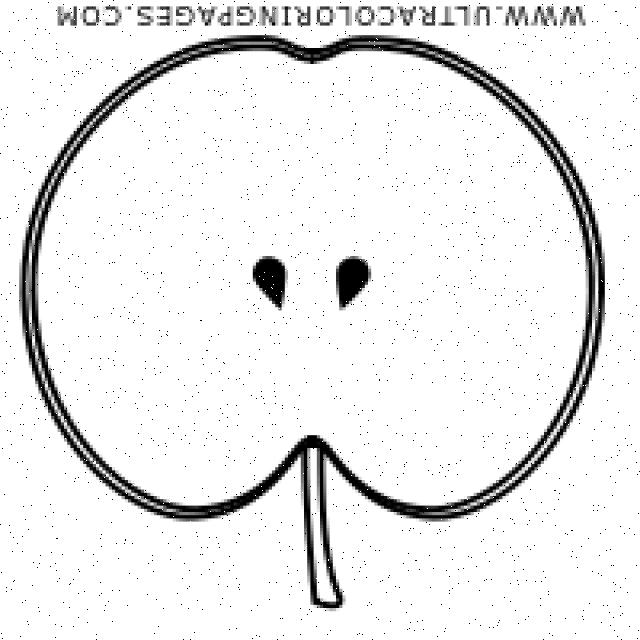Apple: (18, 33, 605, 524)
